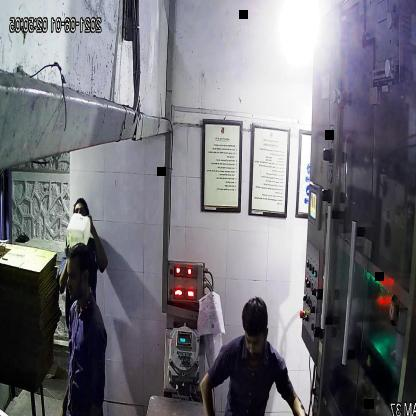no_goggles: (62, 264, 94, 288), (240, 329, 271, 350)
